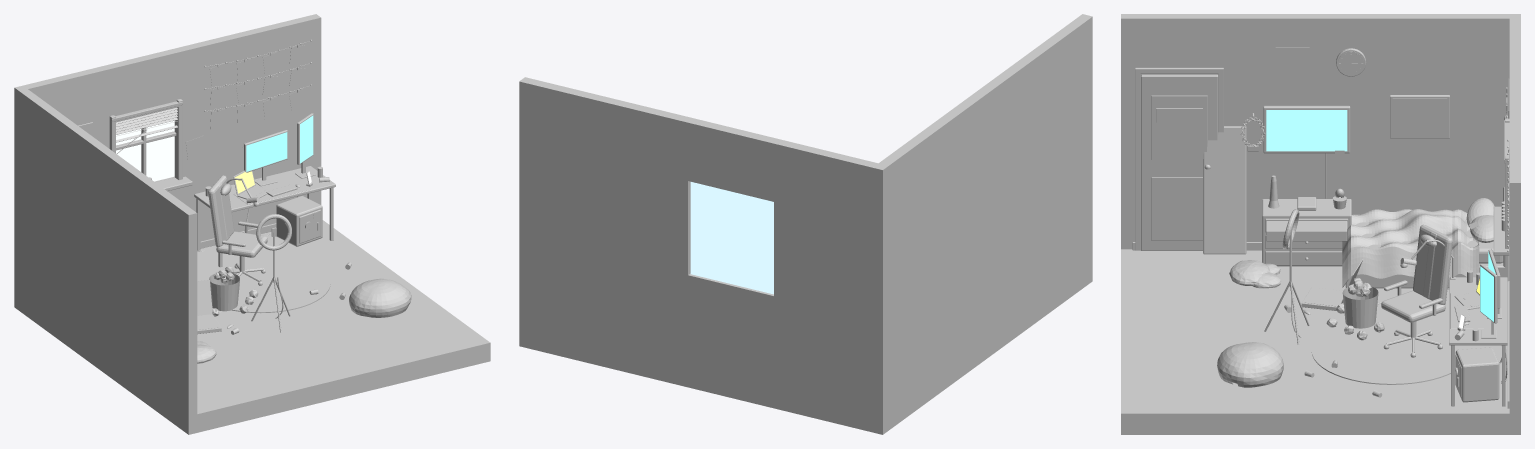
The model's file is room.glb.
3 views of the same model, side by side, from view 1: azimuth 30°, elevation 25°; view 2: azimuth 150°, elevation 25°; view 3: azimuth 270°, elevation 25° (orthographic). The views are drawn at different scales.
Visible parts, largest first — view 1: room_shell, hs_wall, hs_window, room_desk, room_clutter, room_chair, scr_window, hs_safe, hs_trash, scr_mon1, hs_pizza, hs_ring (+2 smaller); view 2: room_shell, scr_window; view 3: room_shell, hs_door, hs_bed, room_dresser, room_clutter, hs_mirror, room_chair, scr_tv, room_desk, hs_cert, hs_safe, hs_trash (+7 smaller).
Boxes of the visible parts, x1,y1,x2,y2 form: room_shell: [14, 14, 490, 434]; hs_wall: [204, 39, 311, 129]; hs_window: [109, 99, 192, 191]; room_desk: [194, 166, 335, 267]; room_clutter: [197, 142, 411, 363]; room_chair: [208, 175, 267, 285]; scr_window: [116, 120, 174, 181]; hs_safe: [276, 196, 322, 246]; hs_trash: [209, 266, 258, 316]; scr_mon1: [246, 132, 287, 171]; hs_pizza: [197, 280, 233, 334]; hs_ring: [251, 214, 291, 332]; room_shell: [519, 14, 1092, 434]; scr_window: [690, 182, 773, 294]; room_shell: [1121, 14, 1520, 434]; hs_door: [1135, 67, 1223, 250]; hs_bed: [1342, 186, 1509, 288]; room_dresser: [1262, 153, 1351, 266]; room_clutter: [1217, 47, 1492, 397]; hs_mirror: [1203, 126, 1246, 254]; room_chair: [1381, 224, 1452, 357]; scr_tv: [1266, 110, 1347, 151]; room_desk: [1400, 239, 1507, 406]; hs_cert: [1390, 95, 1449, 138]; hs_safe: [1455, 347, 1499, 402]; hs_trash: [1326, 278, 1384, 340].
Size of the model in its own units: 4.24 by 2.95 by 4.24.
